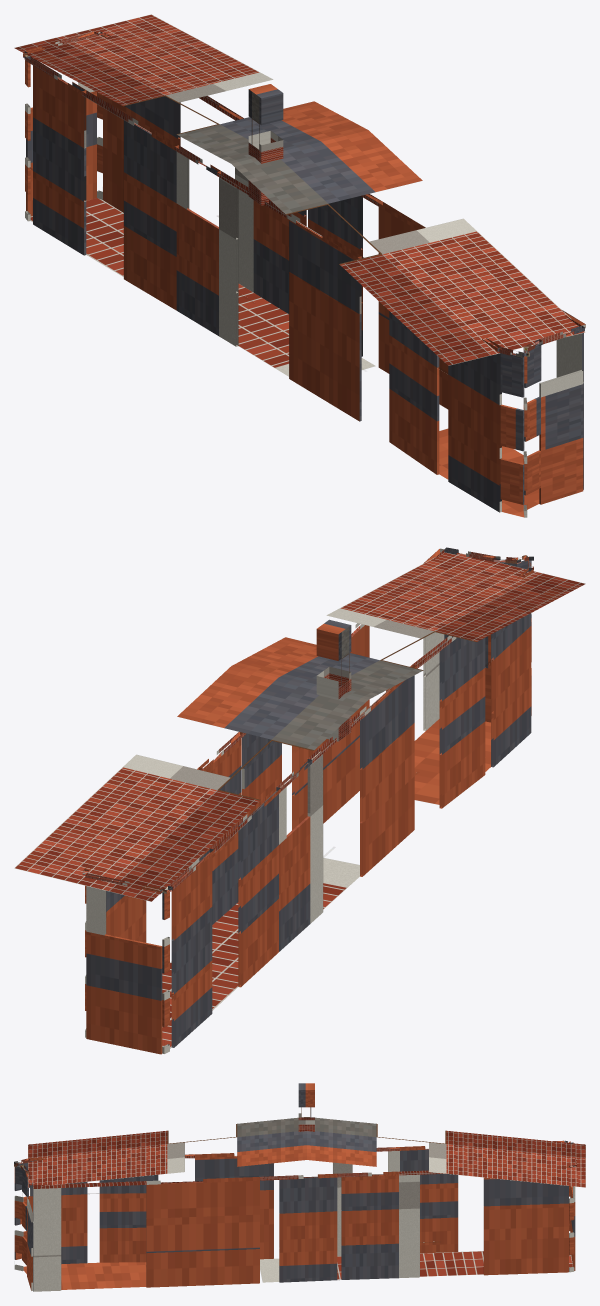
The picture shows the model from 3 angles, top to bottom: view 1: azimuth 30°, elevation 25°; view 2: azimuth 150°, elevation 25°; view 3: azimuth 270°, elevation 25°; orthographic projection. The views are drawn at different scales.
Visible parts, largest first — view 1: 390253411_roof_-1_xb, 390253411_roof_1_xb, 390253411__wall_12_xb, 390253411__wall_14_xb, 390253411__wall_15_xb, 390253411__wall_10_xb, 390253411__base, 390253411__wall_11_xb, 390253411__wall_2_xb, 390253411__wall_13_xb, 390253411__wall_6_xb, 390253411__wall_3_xb (+9 smaller); view 2: 390253411_roof_1_xb, 390253411_roof_-1_xb, 390253411__wall_12_xb, 390253411__wall_0_xb, 390253411__wall_11_xb, 390253411__wall_15_xb, 390253411__wall_14_xb, 390253411__base, 390253411__wall_5_xb, 390253411__wall_10_xb, 390253411__wall_13_xb, 390253411__wall_3_xb (+4 smaller); view 3: 390253411__wall_5_xb, 390253411__wall_2_xb, 390253411_roof_1_xb, 390253411_roof_-1_xb, 390253411__wall_4_xb, 390253411__wall_3_xb, 390253411__base, 390253411__wall_11_xb, 390253411__wall_14_xb, 390253411__wall_12_xb, 390253411__wall_10_xb, 390253411__cornice_5 (+8 smaller).
Part boxes in pixels (bbox=[...]): 390253411_roof_-1_xb: bbox=[231, 130, 585, 365]; 390253411_roof_1_xb: bbox=[14, 14, 368, 163]; 390253411__wall_12_xb: bbox=[219, 177, 361, 421]; 390253411__wall_14_xb: bbox=[84, 120, 176, 310]; 390253411__wall_15_xb: bbox=[33, 65, 86, 255]; 390253411__wall_10_xb: bbox=[448, 353, 501, 512]; 390253411__base: bbox=[30, 198, 539, 517]; 390253411__wall_11_xb: bbox=[359, 296, 439, 474]; 390253411__wall_2_xb: bbox=[103, 95, 253, 292]; 390253411__wall_13_xb: bbox=[176, 152, 218, 335]; 390253411__wall_6_xb: bbox=[539, 370, 583, 504]; 390253411__wall_3_xb: bbox=[253, 200, 306, 313]; 390253411_roof_1_xb: bbox=[14, 666, 368, 901]; 390253411_roof_-1_xb: bbox=[231, 552, 585, 699]; 390253411__wall_12_xb: bbox=[307, 675, 414, 923]; 390253411__wall_0_xb: bbox=[86, 886, 162, 1054]; 390253411__wall_11_xb: bbox=[439, 637, 485, 808]; 390253411__wall_15_xb: bbox=[171, 852, 212, 1047]; 390253411__wall_14_xb: bbox=[238, 791, 278, 987]; 390253411__base: bbox=[162, 719, 490, 1048]; 390253411__wall_5_xb: bbox=[292, 625, 444, 829]; 390253411__wall_10_xb: bbox=[491, 613, 531, 767]; 390253411__wall_13_xb: bbox=[279, 784, 310, 951]; 390253411__wall_3_xb: bbox=[203, 738, 241, 924]; 390253411__wall_5_xb: bbox=[33, 1180, 259, 1291]; 390253411__wall_2_xb: bbox=[399, 1174, 568, 1277]; 390253411_roof_1_xb: bbox=[307, 1117, 585, 1187]; 390253411_roof_-1_xb: bbox=[28, 1117, 306, 1187]; 390253411__wall_4_xb: bbox=[279, 1177, 337, 1282]; 390253411__wall_3_xb: bbox=[341, 1175, 398, 1279]; 390253411__base: bbox=[23, 1251, 572, 1289]; 390253411__wall_11_xb: bbox=[99, 1174, 158, 1262]; 390253411__wall_14_xb: bbox=[400, 1149, 458, 1253]; 390253411__wall_12_xb: bbox=[195, 1156, 352, 1259]; 390253411__wall_10_xb: bbox=[30, 1182, 87, 1263]; 390253411__cornice_5: bbox=[33, 1177, 259, 1188].
Size of the model in its own units: 0.9984 by 1.75 by 5.26.
1 material, 1 textured.
